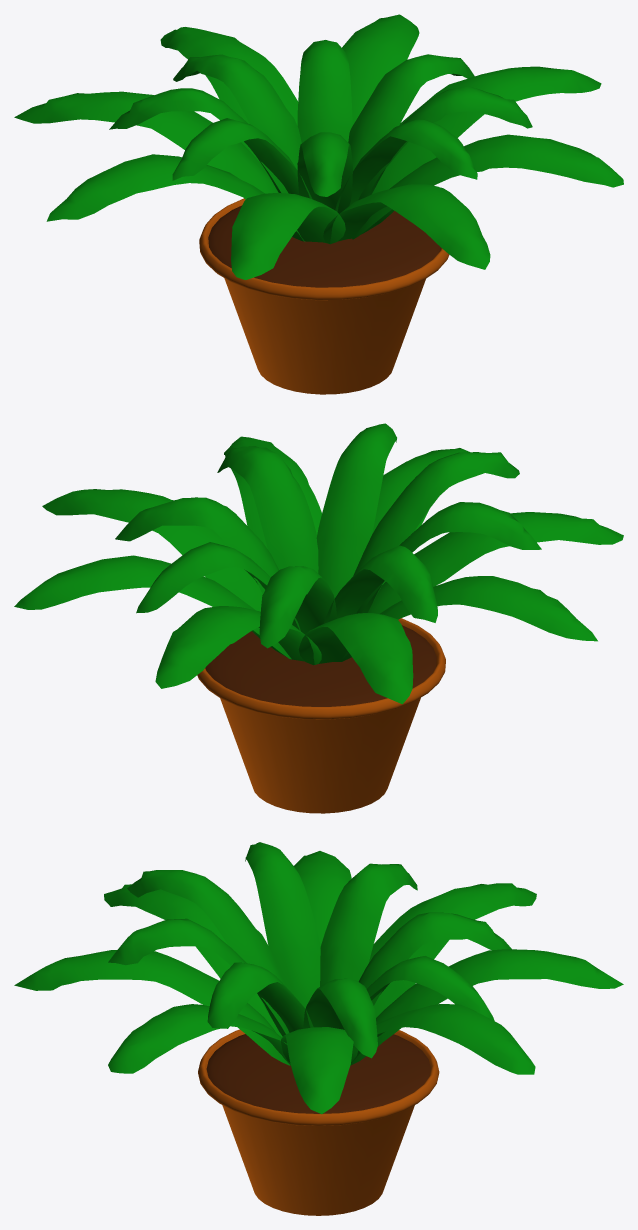
Rendered from Flower_pot.fbx.
3 views of the same model, one above another, from view 1: azimuth 30°, elevation 25°; view 2: azimuth 150°, elevation 25°; view 3: azimuth 270°, elevation 25° (orthographic). The views are drawn at different scales.
Parts seen in each view (by area): view 1: Flower_pot; view 2: Flower_pot; view 3: Flower_pot.
Boxes of the visible parts, x1,y1,x2,y2 form: Flower_pot: (14, 14, 623, 394); Flower_pot: (14, 423, 623, 813); Flower_pot: (14, 842, 623, 1215).
Size of the model in its own units: 331 by 172 by 329.
